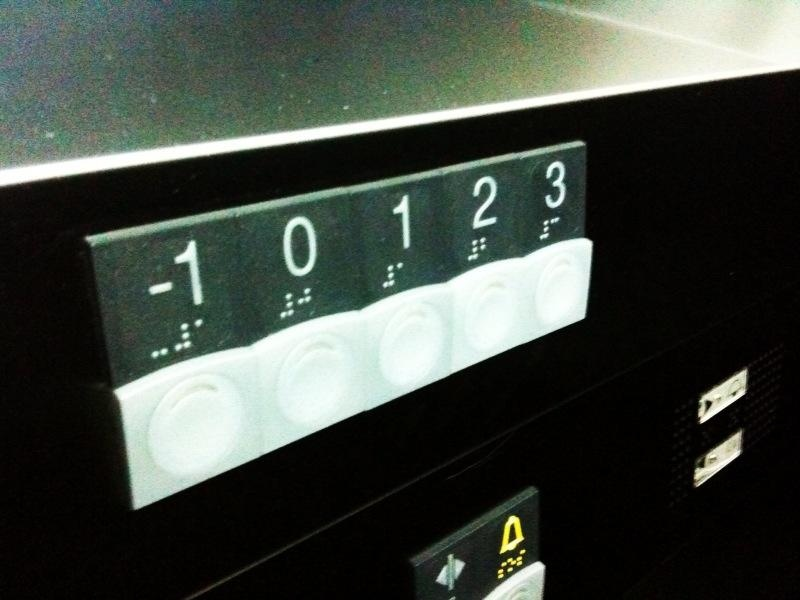-1: (83, 207, 241, 386)
0: (231, 184, 358, 350)
1: (351, 160, 447, 316)
2: (445, 154, 517, 280)
3: (518, 140, 587, 260)
alarm: (479, 483, 544, 598)
open: (407, 518, 485, 600)
